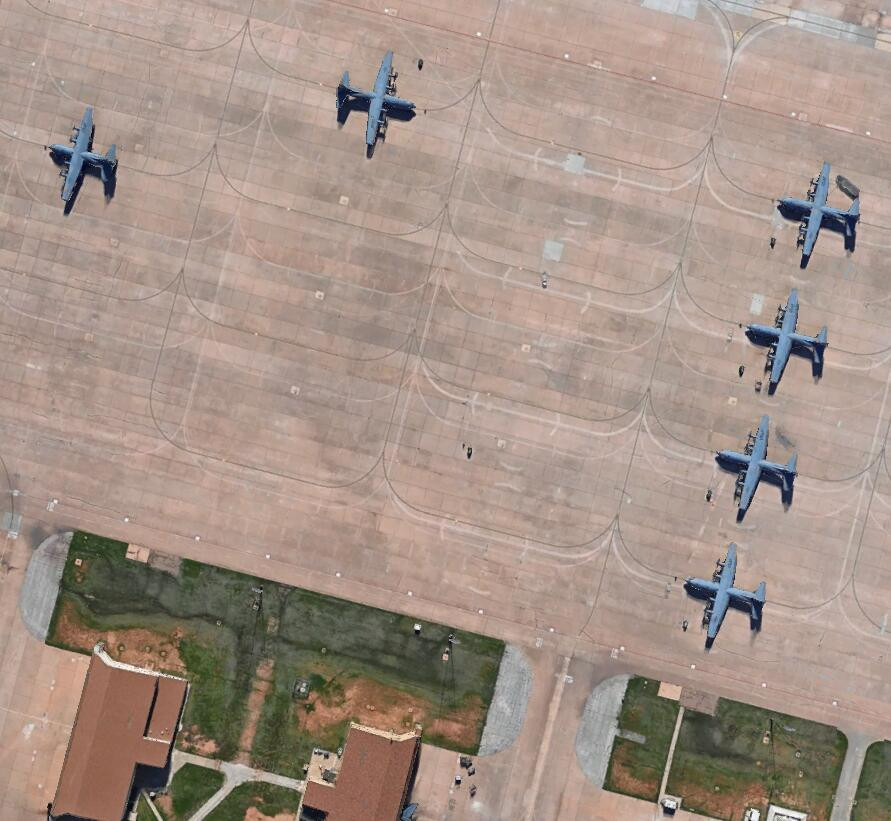A2: (773, 152, 866, 272), (713, 414, 815, 518), (681, 539, 772, 651), (335, 47, 425, 158), (746, 284, 836, 394), (42, 105, 127, 216)
